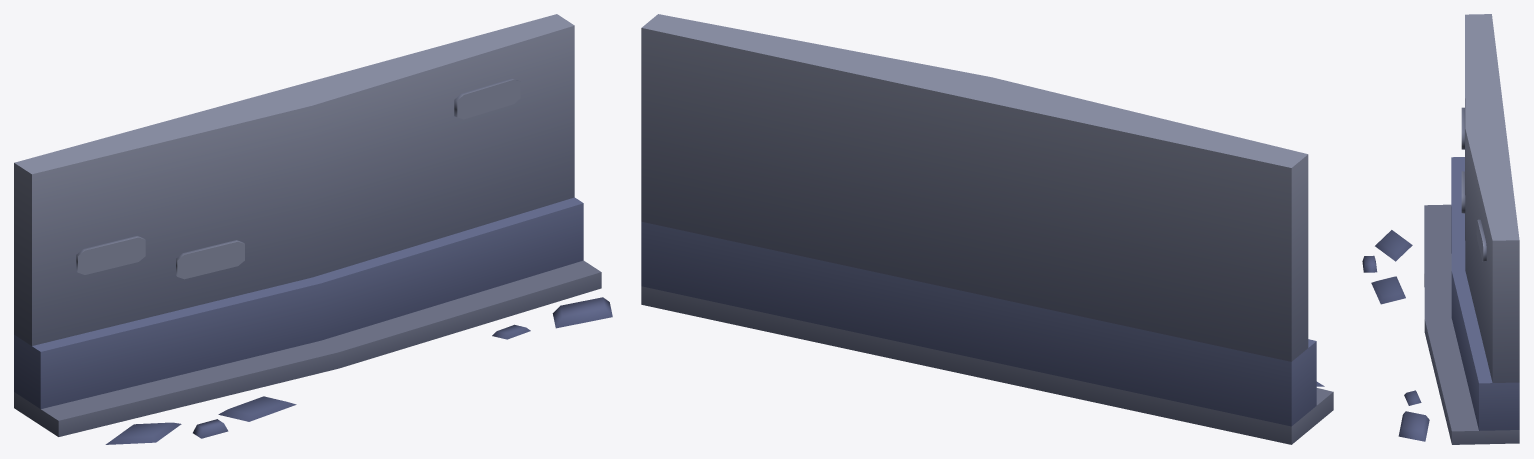
The model's file is template-wall.010.002_lev1.glb.
The picture shows the model from 3 angles, left to right: view 1: azimuth 30°, elevation 25°; view 2: azimuth 150°, elevation 25°; view 3: azimuth 270°, elevation 25°; orthographic projection. The views are drawn at different scales.
Visible parts, largest first — view 1: template-wall.010.002_lev1; view 2: template-wall.010.002_lev1; view 3: template-wall.010.002_lev1.
Boxes of the visible parts, left/top/right/bottom form: template-wall.010.002_lev1: left=14, top=14, right=612, bottom=444; template-wall.010.002_lev1: left=641, top=14, right=1333, bottom=444; template-wall.010.002_lev1: left=1362, top=14, right=1519, bottom=444.
Size of the model in its own units: 12.72 by 5.3 by 3.71.
Materials: 1 (1 with a texture image).
